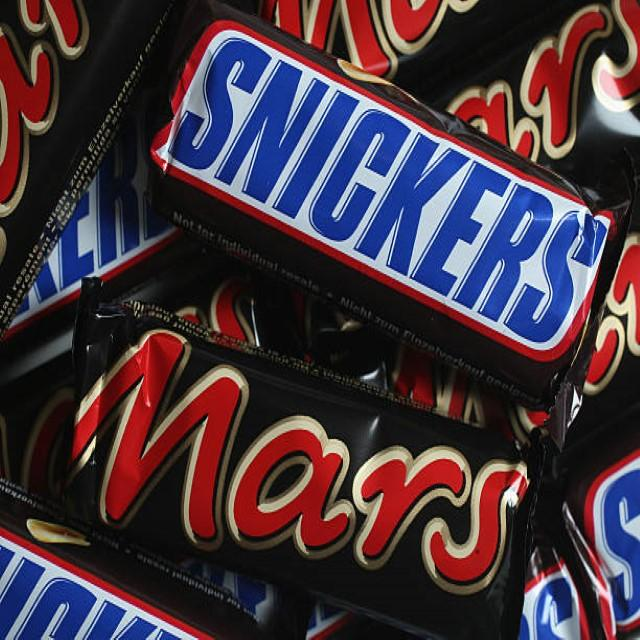mars_chocolate: (75, 278, 543, 640)
snickers_chocolate: (188, 12, 627, 403)
